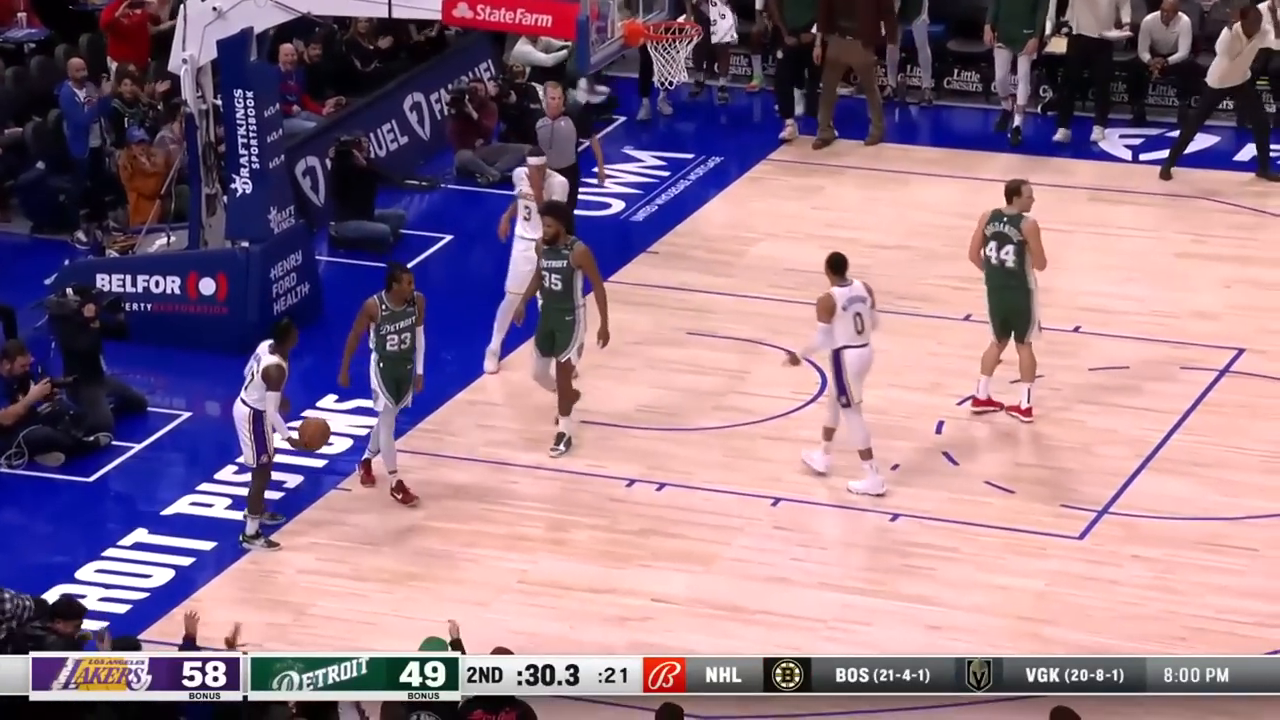ball: (294, 413, 332, 454)
net: (643, 18, 704, 91)
